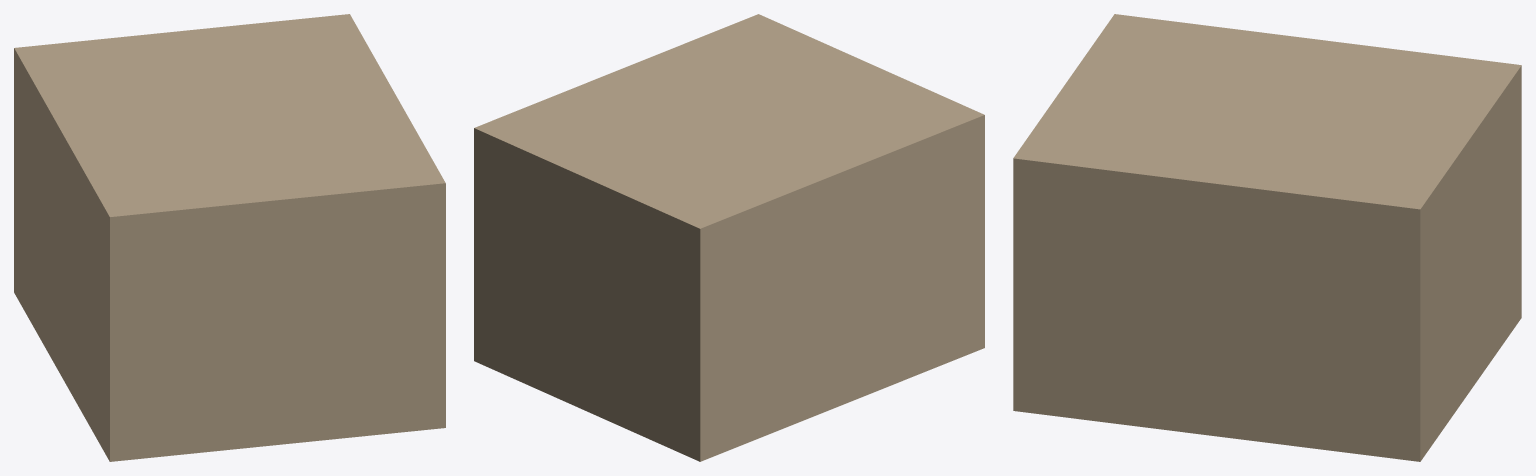
Rendered from bld_101524450.dae.
The picture shows the model from 3 angles, left to right: view 1: azimuth 30°, elevation 25°; view 2: azimuth 150°, elevation 25°; view 3: azimuth 270°, elevation 25°; orthographic projection. The views are drawn at different scales.
Parts seen in each view (by area): view 1: bld_101524450; view 2: bld_101524450; view 3: bld_101524450.
Boxes of the visible parts, left/top/right/bottom form: bld_101524450: left=14, top=14, right=445, bottom=461; bld_101524450: left=474, top=14, right=984, bottom=461; bld_101524450: left=1013, top=14, right=1521, bottom=461.
Bounding box in the file's own units: 13.28 × 14.6 × 8.
